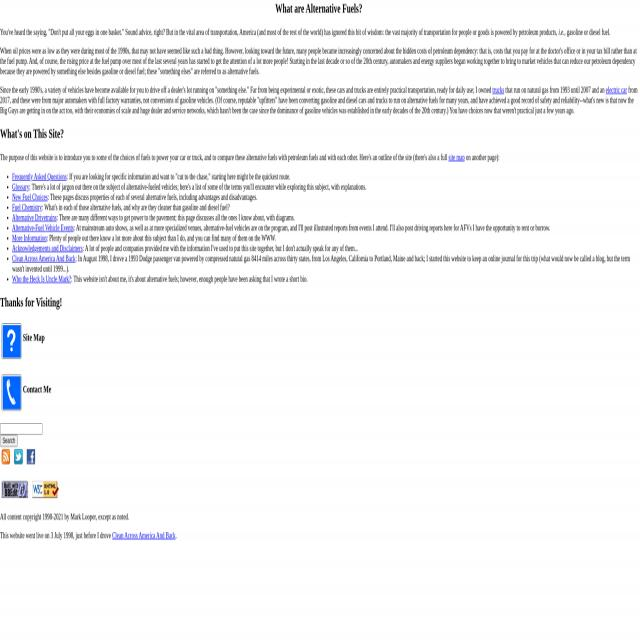button: (1, 375, 22, 411), (1, 324, 22, 359), (32, 481, 59, 497), (2, 481, 28, 497), (0, 435, 18, 447), (2, 450, 10, 465), (14, 450, 22, 465), (27, 450, 35, 465)
field: (0, 423, 42, 435)
